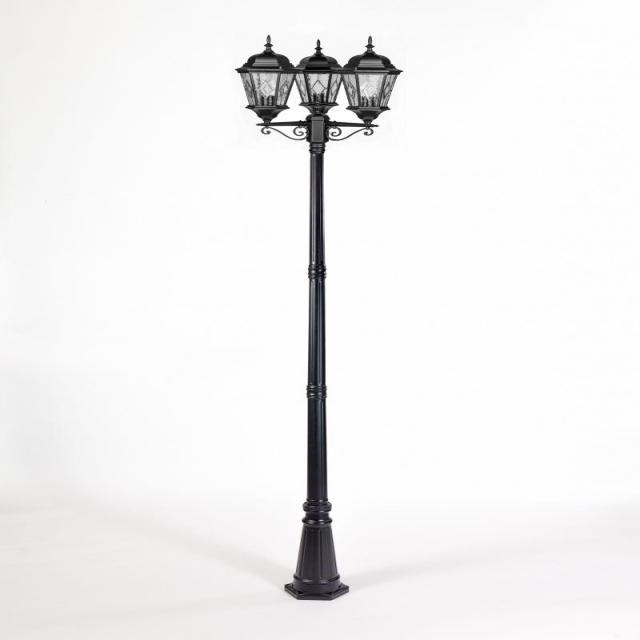pole: (270, 202, 379, 622)
